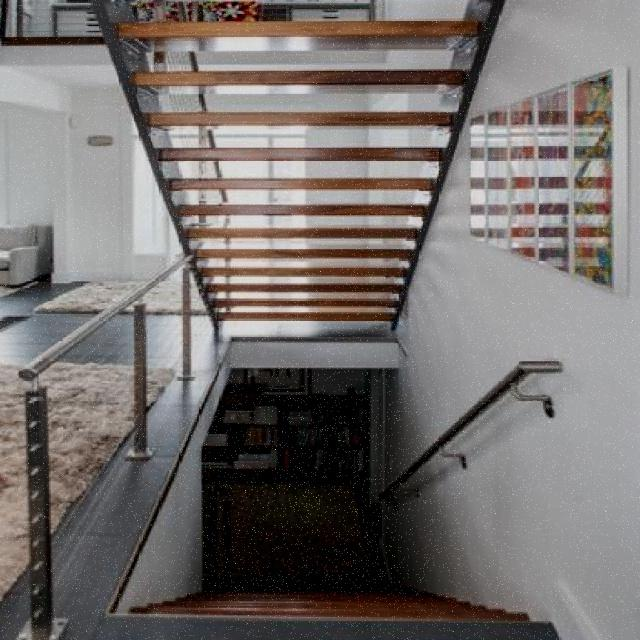stair: (132, 0, 543, 358)
